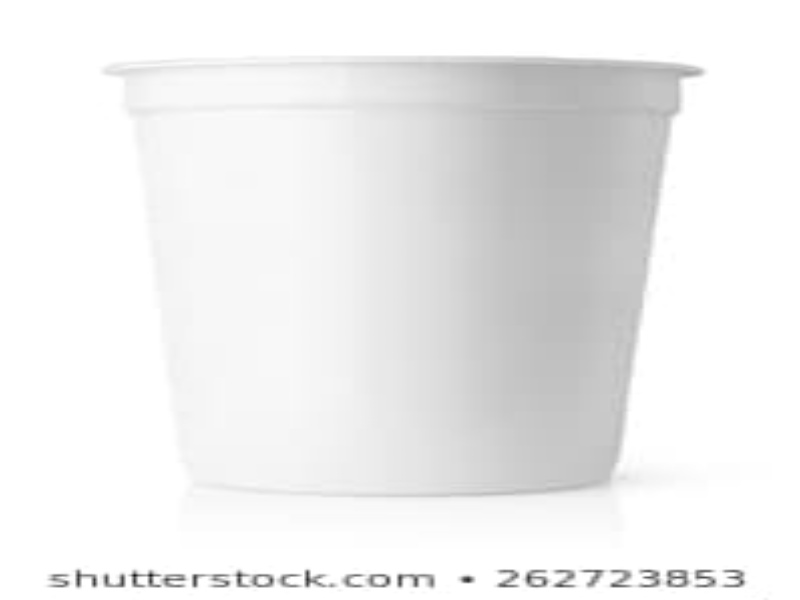plastic-cup: (90, 50, 710, 486)
